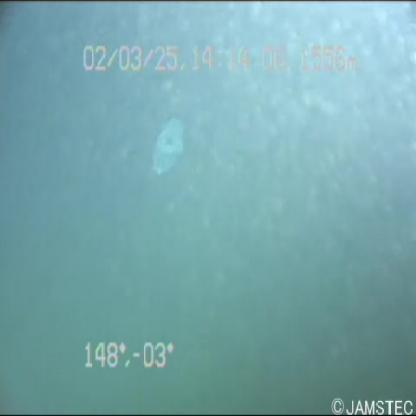Rác: (140, 110, 196, 184)
